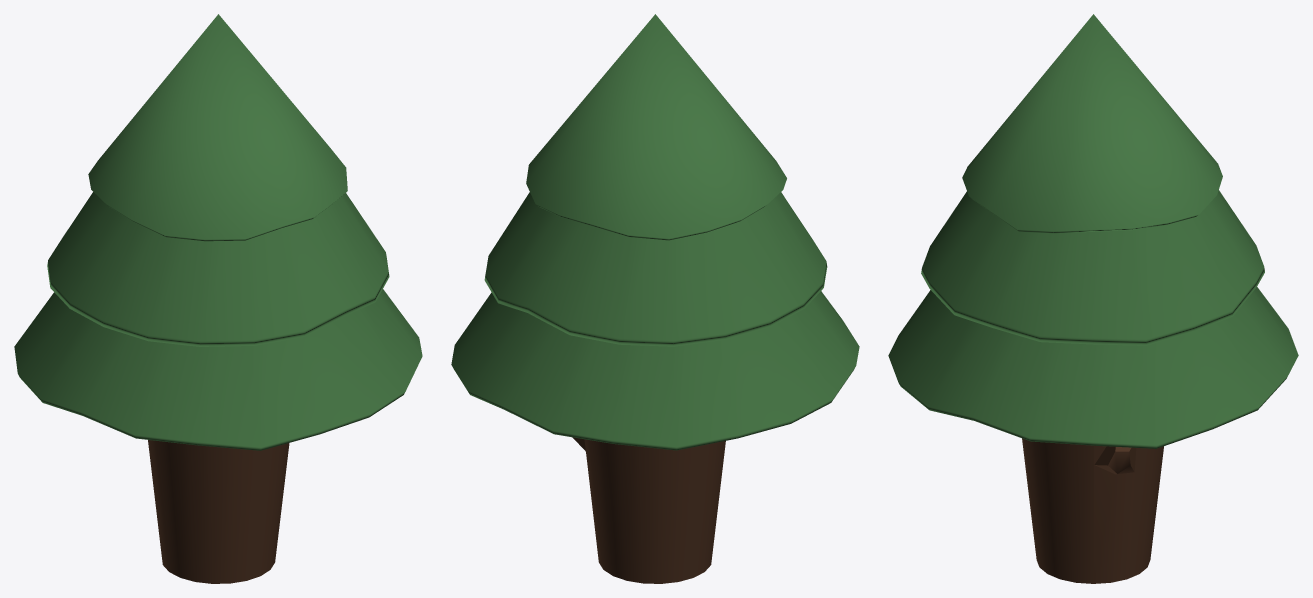
File: Prop_Tree_1.fbx
The picture shows the model from 3 angles, left to right: view 1: azimuth 30°, elevation 25°; view 2: azimuth 150°, elevation 25°; view 3: azimuth 270°, elevation 25°; orthographic projection.
Visible parts, largest first — view 1: pasted__pCone1; view 2: pasted__pCone1; view 3: pasted__pCone1.
Boxes of the visible parts, left/top/right/bottom form: pasted__pCone1: left=14, top=14, right=422, bottom=583; pasted__pCone1: left=451, top=14, right=859, bottom=583; pasted__pCone1: left=888, top=14, right=1298, bottom=583.
Bounding box in the file's own units: 3.99 × 5.86 × 3.99.
